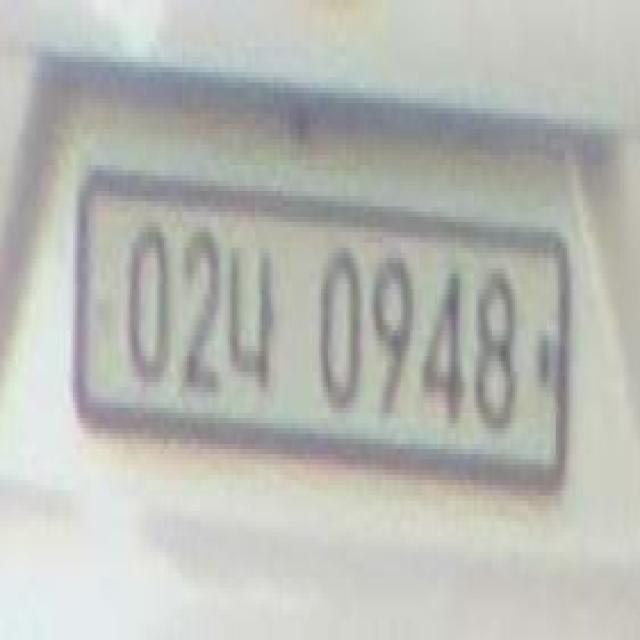illegal_plate: (80, 162, 570, 520)
